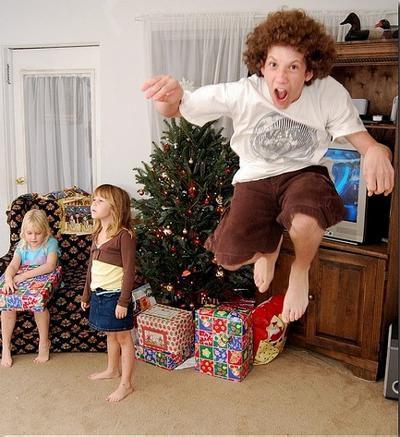person: (142, 10, 394, 325)
